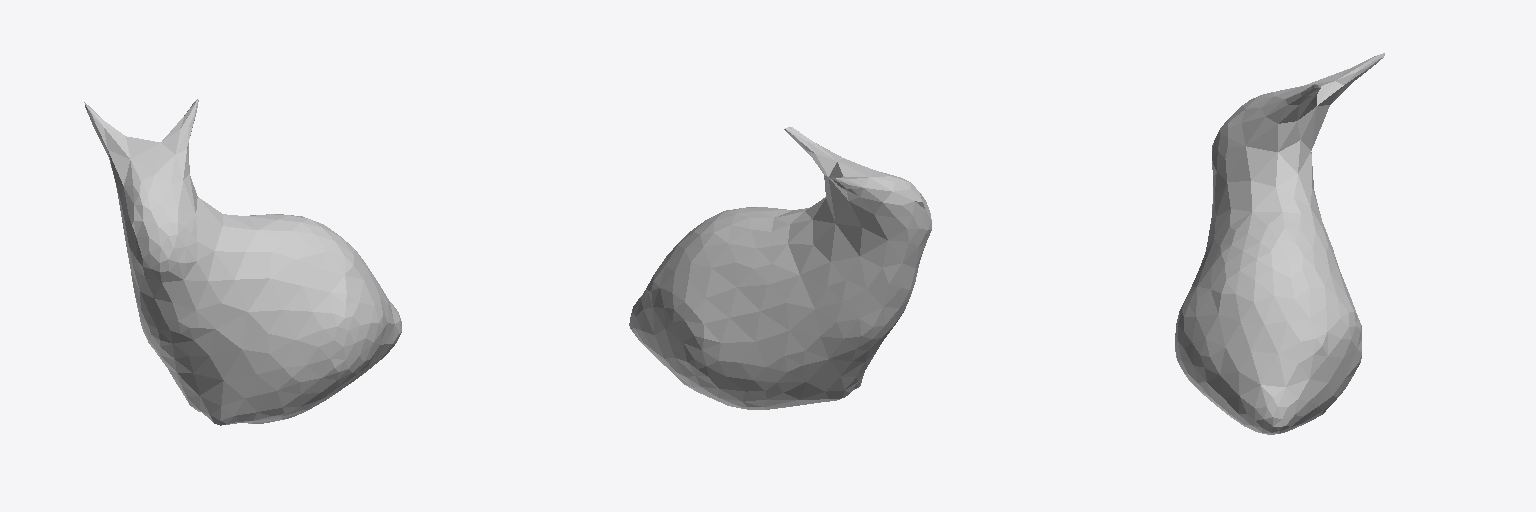
Rendered from bunny_small_smoothed_60.obj.
The picture shows the model from 3 angles: view 1: azimuth 30°, elevation 25°; view 2: azimuth 150°, elevation 25°; view 3: azimuth 270°, elevation 25°; orthographic projection.
Size of the model in its own units: 0.1189 by 0.1243 by 0.0774.